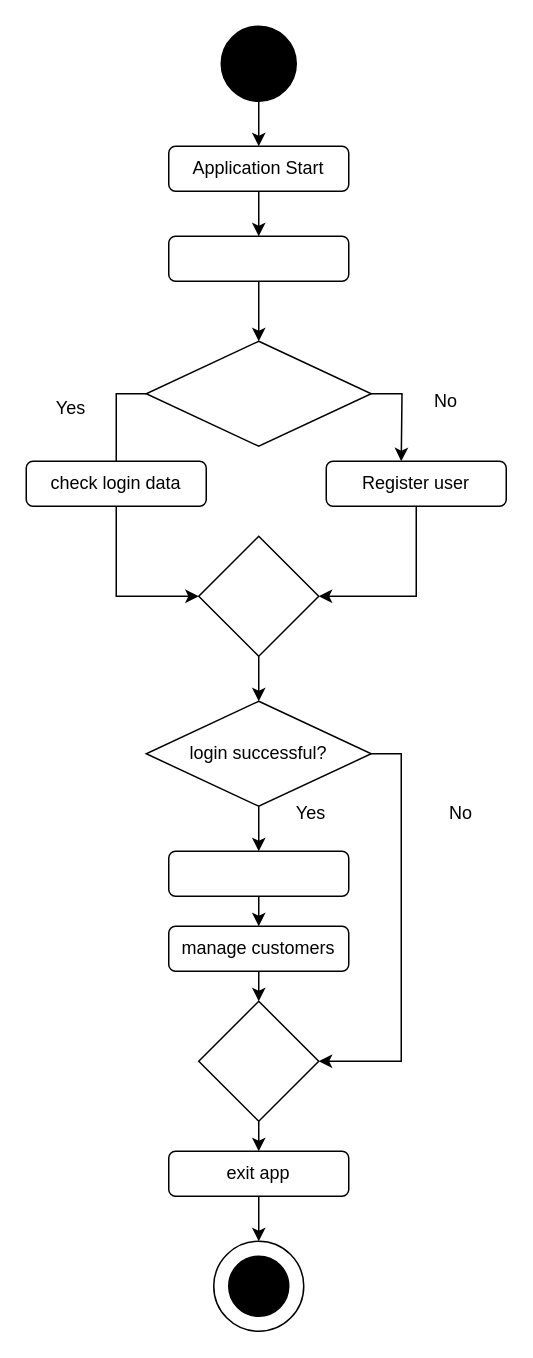
Image size: 533x1358. Some labels were removed from this diagram. Each missing label, with the centre of its shape:
"open main window" belongs at point 258,873.
"show login" belongs at point 258,258.
"User Registered?" belongs at point 258,393.
